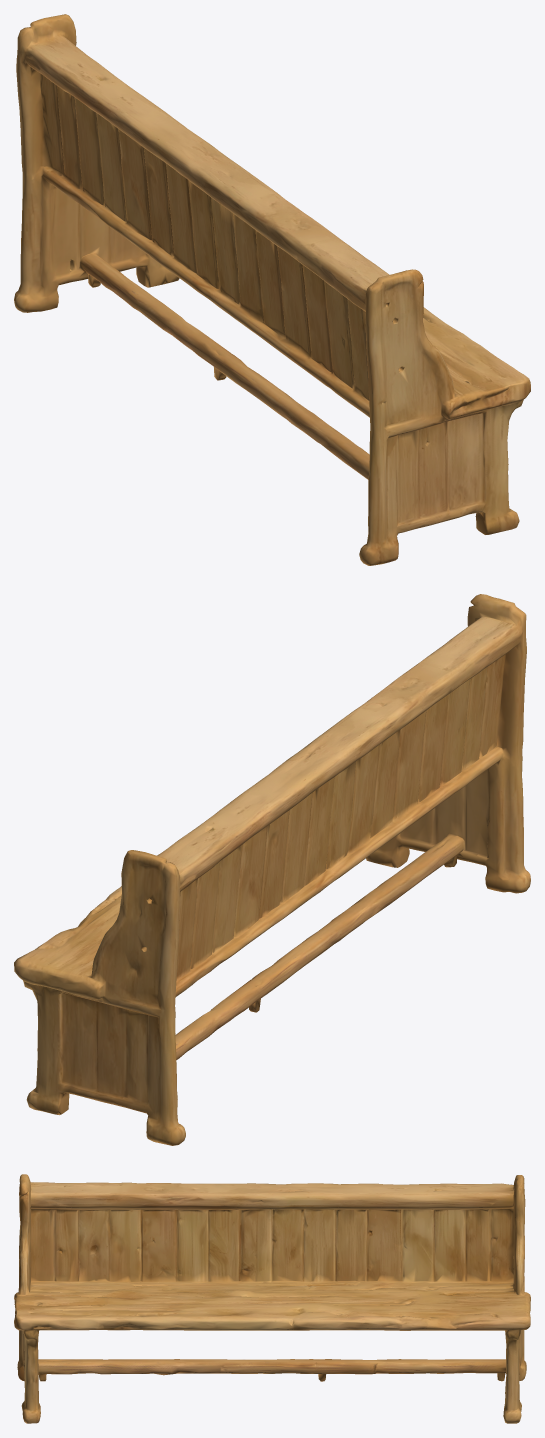
File: gallery-bench.glb
3 views of the same model, one above another, from view 1: azimuth 30°, elevation 25°; view 2: azimuth 150°, elevation 25°; view 3: azimuth 270°, elevation 25° (orthographic). The views are drawn at different scales.
Parts seen in each view (by area): view 1: tripo_node_01a2180b-30fb-7efc-a52d-45bcef981b9a; view 2: tripo_node_01a2180b-30fb-7efc-a52d-45bcef981b9a; view 3: tripo_node_01a2180b-30fb-7efc-a52d-45bcef981b9a.
Boxes of the visible parts, box(x1,y1,x2,y2) form: tripo_node_01a2180b-30fb-7efc-a52d-45bcef981b9a: box(14, 14, 530, 565); tripo_node_01a2180b-30fb-7efc-a52d-45bcef981b9a: box(14, 594, 530, 1145); tripo_node_01a2180b-30fb-7efc-a52d-45bcef981b9a: box(14, 1174, 530, 1423).
Bounding box in the file's own units: 0.2638 × 0.4329 × 1.
Materials: 1 (1 with a texture image).
